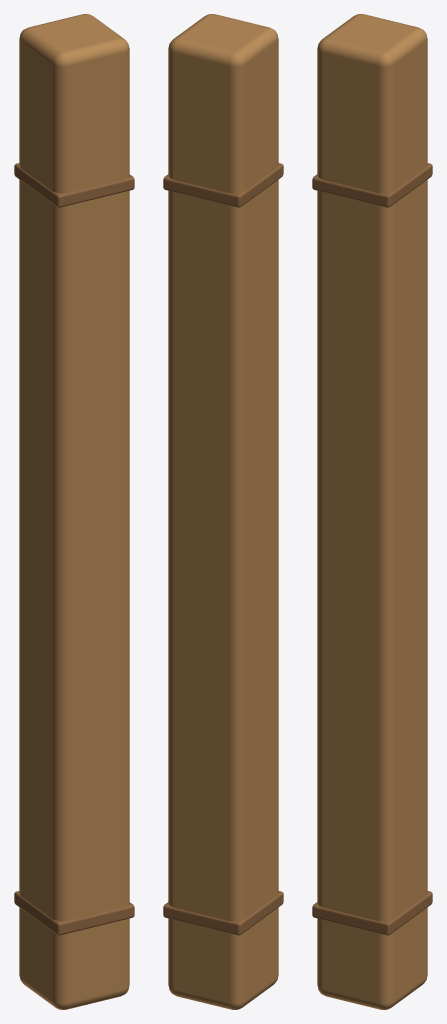
File: descent-stool-leg-71.5-101.glb
3 renders of one model, left to right at view 1: azimuth 30°, elevation 25°; view 2: azimuth 150°, elevation 25°; view 3: azimuth 330°, elevation 25°, orthographic.
Visible parts, largest first — view 1: wood, edge; view 2: wood, edge; view 3: wood, edge.
Part boxes in pixels (box(x1,y1,x2,y2)): wood: box(19, 14, 129, 1009); edge: box(14, 163, 134, 935); wood: box(168, 14, 278, 1009); edge: box(163, 163, 283, 935); wood: box(317, 14, 427, 1009); edge: box(312, 163, 432, 935).
Bounding box in the file's own units: 0.62 × 7.3 × 0.62.
